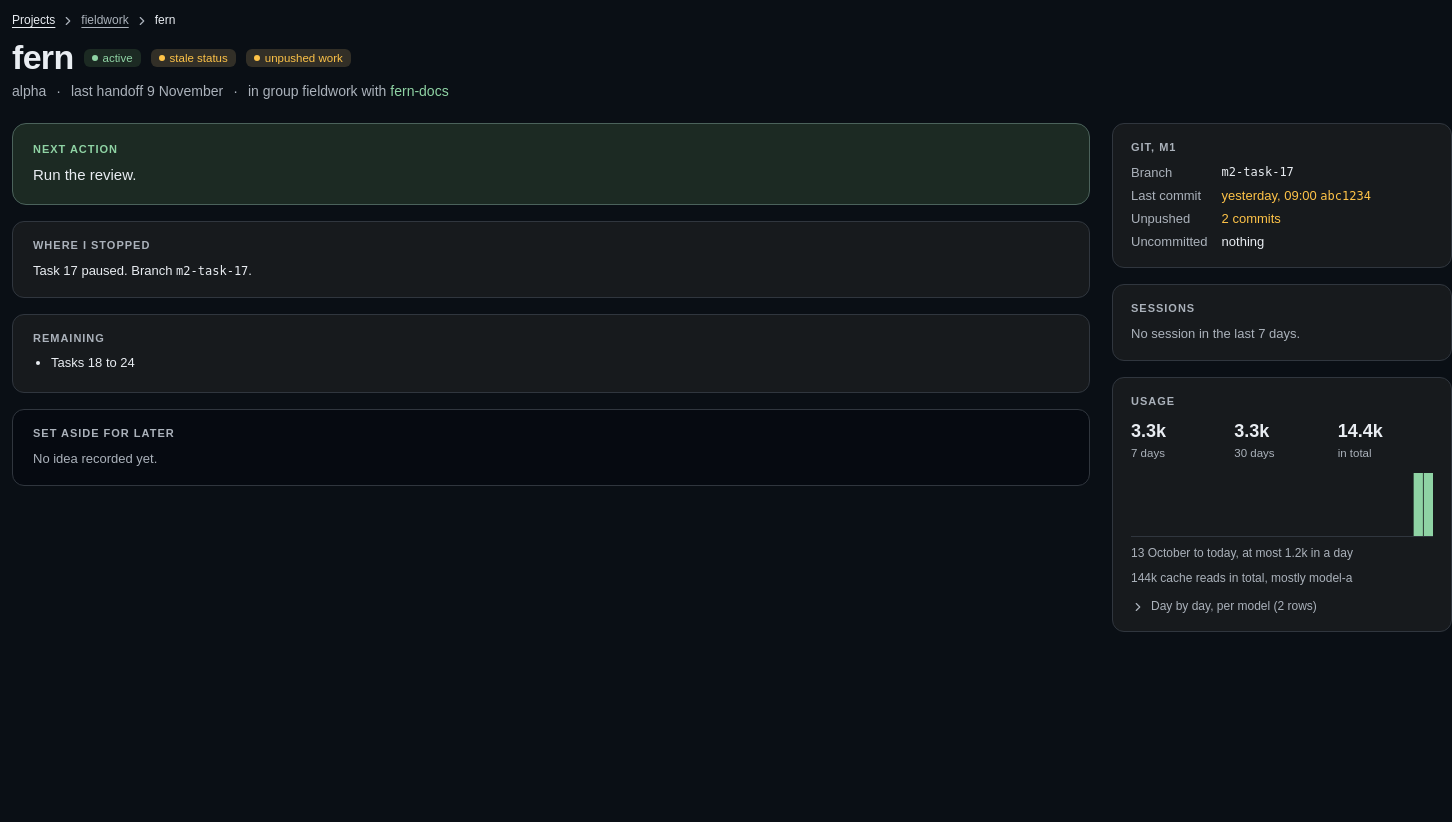
Test: the folded table shows one unit in every row
Later steps or results of the test are not shown.
Click the button "Day by day, per model (2 rows)" at {"x": 1224, "y": 606}, box [1131,598,1317,615]
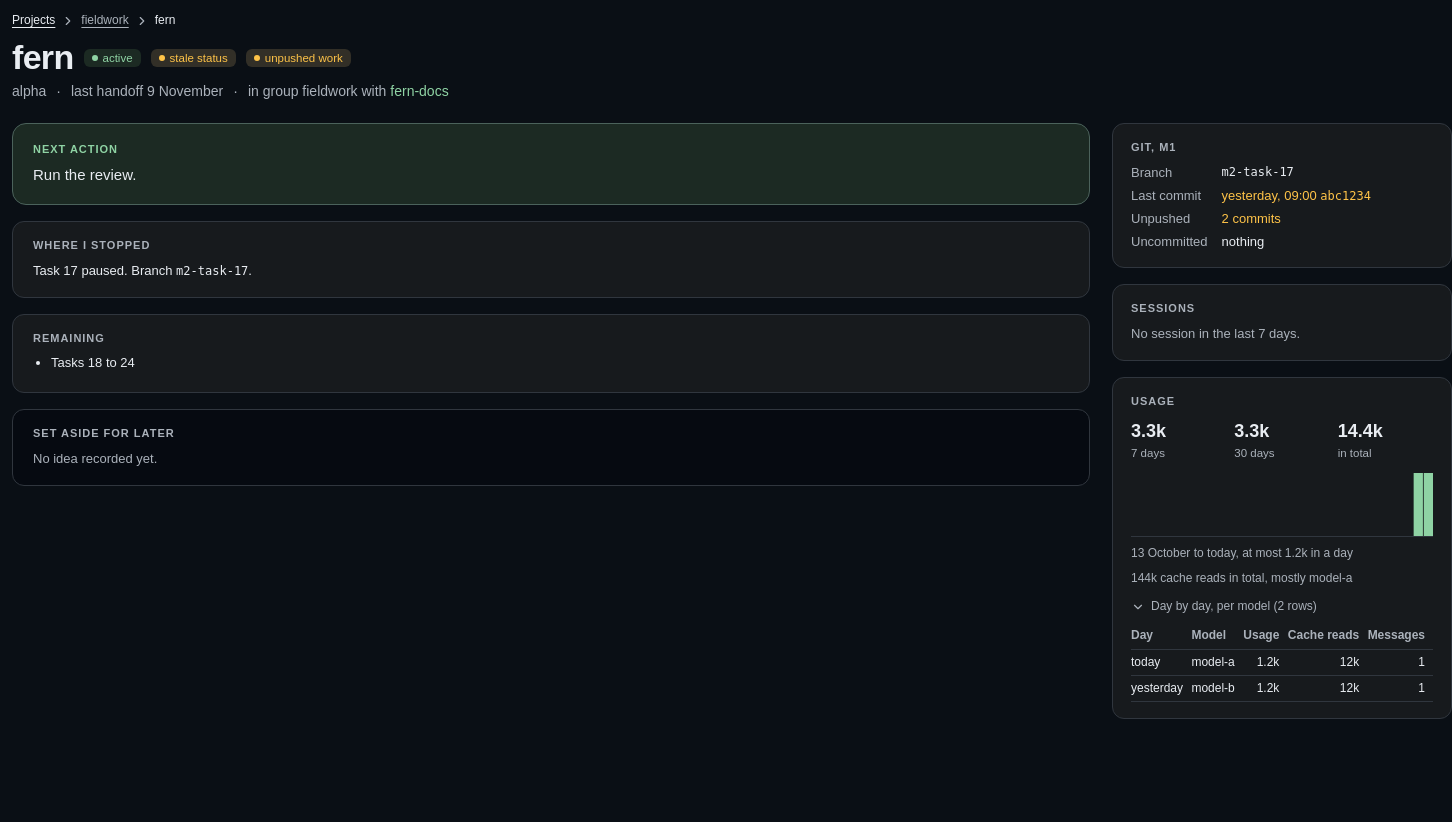
Expected: the row "today model-a 1.2k 12k 1" does not show "$", [1131,649,1433,676]
Expected: the row "today model-a 1.2k 12k 1" is shown, [1131,649,1433,676]
Expected: the row "yesterday model-b 1.2k 12k 1" is shown, [1131,676,1433,702]
